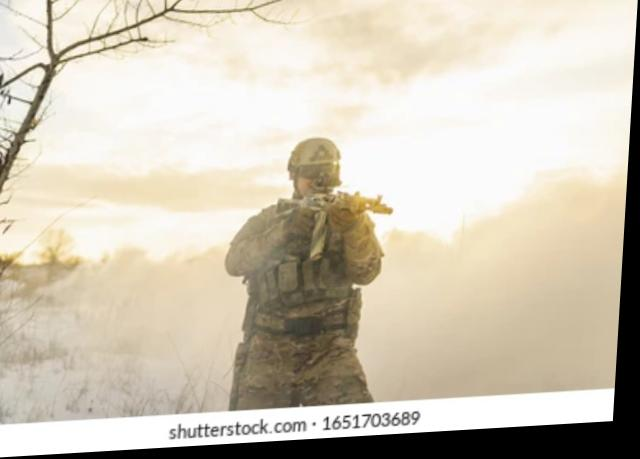other: (225, 138, 392, 407)
